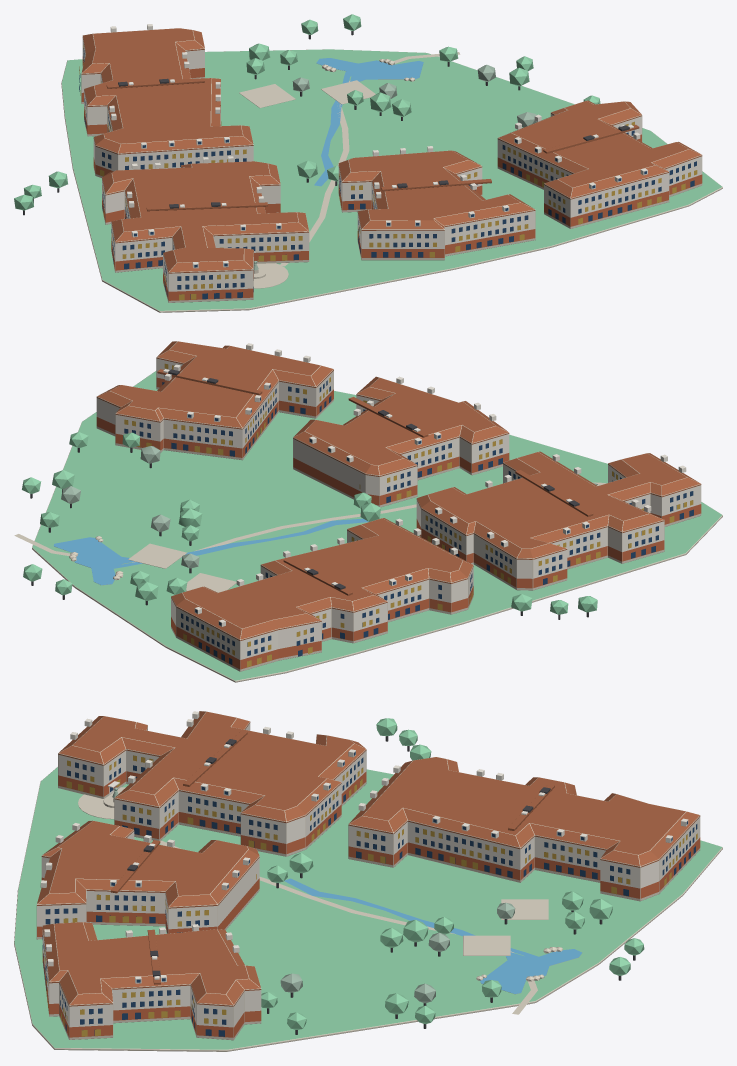
Rendered from letterman-digital-arts-center.glb.
3 views of the same model, one above another, from view 1: azimuth 30°, elevation 25°; view 2: azimuth 150°, elevation 25°; view 3: azimuth 270°, elevation 25° (orthographic). The views are drawn at different scales.
Parts seen in each view (by area): view 1: grp_Toy_brick_Toy_cream_Toy_rust_Toy_stone_Toy_trim, ground, grp_Toy_glass, grp_Toy_mint, grp_Toy_stone, grp_Toy_gold_Glow, grp_Toy_cream, grp_Toy_rust, lagoon_water, grp_Toy_verdigris, grp_Toy_sky, grp_Toy_roofd; view 2: grp_Toy_brick_Toy_cream_Toy_rust_Toy_stone_Toy_trim, ground, grp_Toy_mint, grp_Toy_glass, grp_Toy_stone, grp_Toy_gold_Glow, grp_Toy_cream, grp_Toy_rust, lagoon_water, grp_Toy_verdigris, grp_Toy_sky, grp_Toy_roofd; view 3: grp_Toy_brick_Toy_cream_Toy_rust_Toy_stone_Toy_trim, ground, grp_Toy_mint, grp_Toy_glass, grp_Toy_stone, grp_Toy_gold_Glow, grp_Toy_cream, lagoon_water, grp_Toy_rust, grp_Toy_verdigris, grp_Toy_sky, grp_Toy_roofd.
Boxes of the visible parts, <box> form: grp_Toy_brick_Toy_cream_Toy_rust_Toy_stone_Toy_trim: <box>81,28,702,302</box>; ground: <box>61,49,722,312</box>; grp_Toy_glass: <box>79,48,696,299</box>; grp_Toy_mint: <box>14,14,600,210</box>; grp_Toy_stone: <box>239,52,460,288</box>; grp_Toy_gold_Glow: <box>79,45,697,300</box>; grp_Toy_cream: <box>109,24,647,268</box>; grp_Toy_rust: <box>106,78,639,211</box>; lagoon_water: <box>316,58,423,81</box>; grp_Toy_verdigris: <box>254,64,536,270</box>; grp_Toy_sky: <box>314,71,350,186</box>; grp_Toy_roofd: <box>23,31,629,215</box>; grp_Toy_brick_Toy_cream_Toy_rust_Toy_stone_Toy_trim: <box>96,341,701,671</box>; ground: <box>32,371,722,682</box>; grp_Toy_mint: <box>22,432,597,614</box>; grp_Toy_glass: <box>124,375,693,664</box>; grp_Toy_stone: <box>14,482,605,592</box>; grp_Toy_gold_Glow: <box>124,363,693,667</box>; grp_Toy_cream: <box>165,343,686,626</box>; grp_Toy_rust: <box>157,369,593,595</box>; lagoon_water: <box>53,537,134,585</box>; grp_Toy_verdigris: <box>61,446,597,568</box>; grp_Toy_sky: <box>114,518,369,568</box>; grp_Toy_roofd: <box>30,369,588,619</box>; grp_Toy_brick_Toy_cream_Toy_rust_Toy_stone_Toy_trim: <box>36,711,700,1040</box>; ground: <box>14,767,722,1051</box>; grp_Toy_mint: <box>261,718,644,1029</box>; grp_Toy_glass: <box>42,752,697,1036</box>; grp_Toy_stone: <box>78,787,562,1014</box>; grp_Toy_gold_Glow: <box>42,755,697,1036</box>; grp_Toy_cream: <box>40,711,688,983</box>; lagoon_water: <box>480,949,582,994</box>; grp_Toy_rust: <box>110,731,554,984</box>; grp_Toy_verdigris: <box>112,787,515,1003</box>; grp_Toy_sky: <box>284,878,538,956</box>; grp_Toy_roofd: <box>127,736,635,1034</box>.
Bounding box in the file's own units: 312 × 21.99 × 298.
